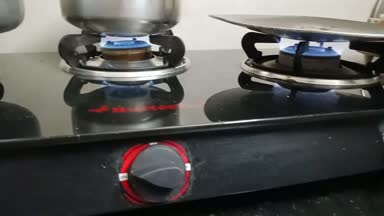flame_gas_on: (57, 23, 199, 205), (235, 24, 384, 104)
